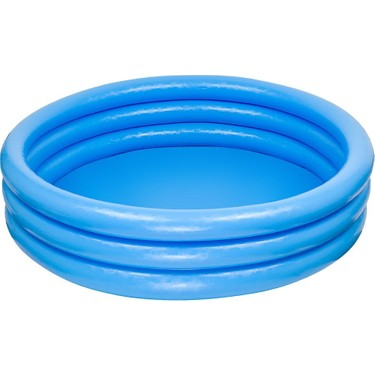havuz: (1, 74, 375, 301)
